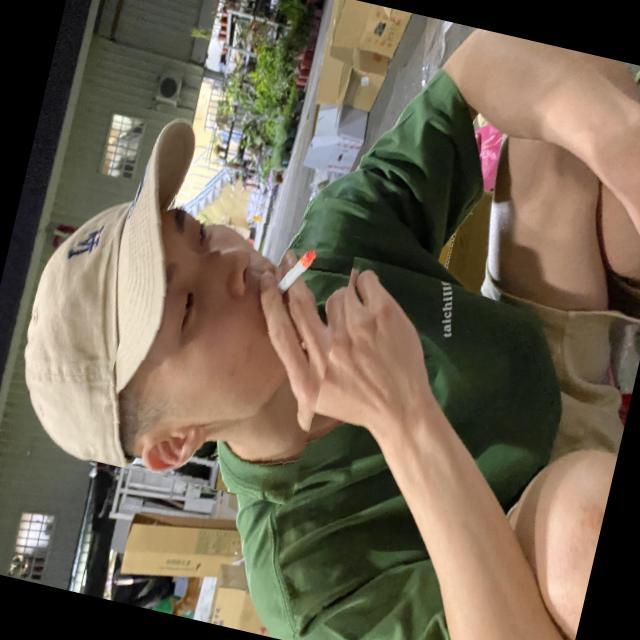cigarette: (270, 210, 344, 320)
